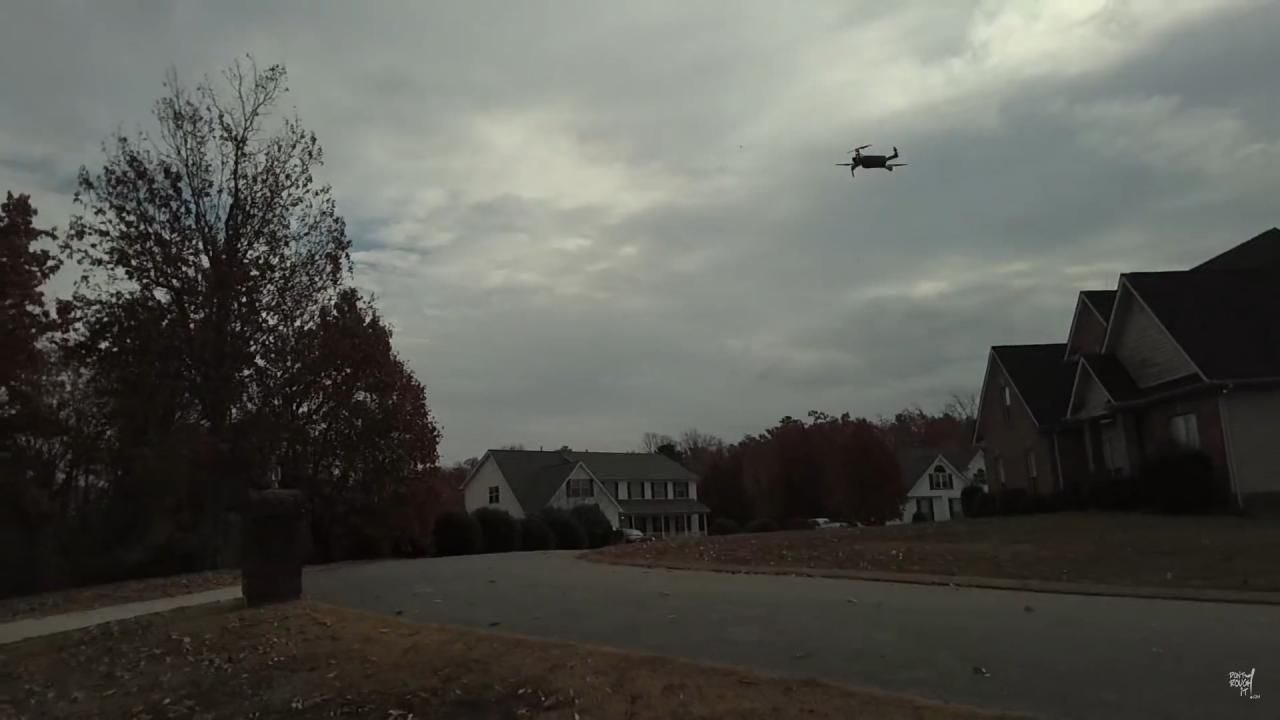Drone: (829, 136, 909, 182)
